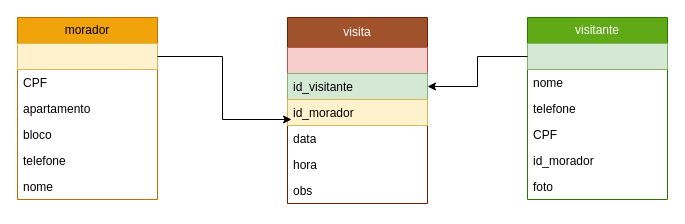
Image size: 685x224. Some labels were removed from this diagram. Here are the shapes that lost their labels. From the top down, the centre of each, then its label:
At point 87,56: "id_morador PK".
At point 357,60: "id_visita PK".
At point 597,56: "id_visitante PK".
